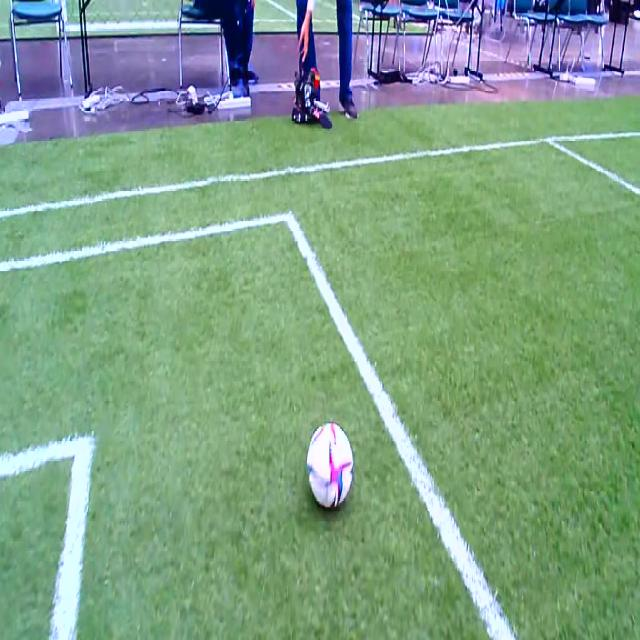ball: (307, 423, 354, 509)
